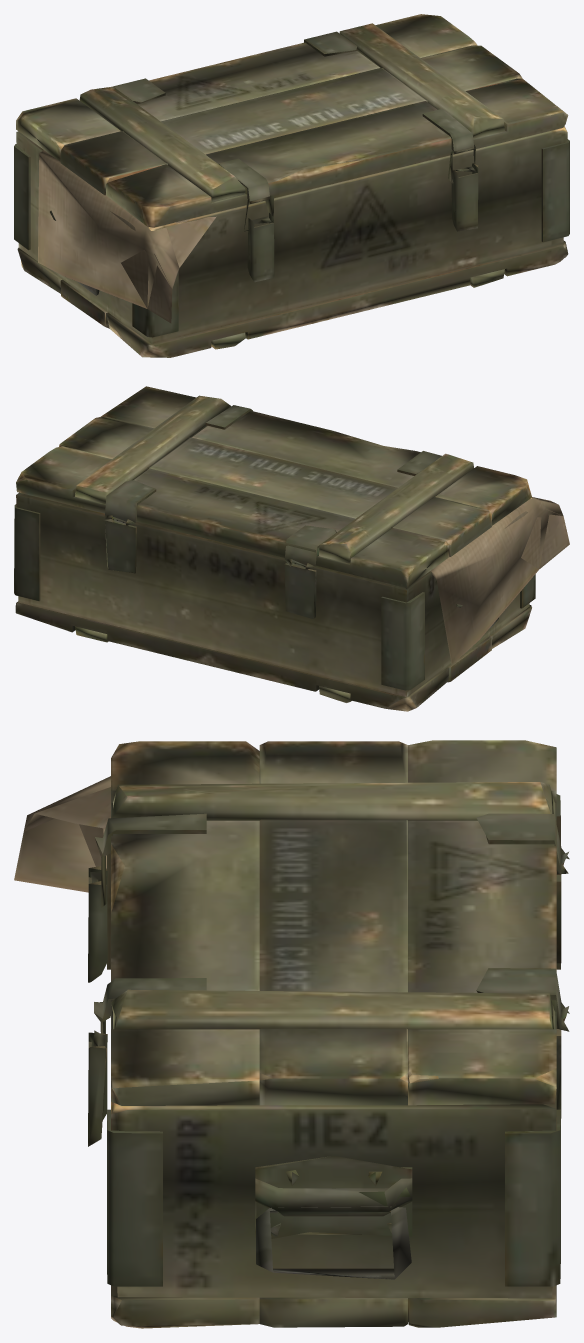
File: crate2.glb
The picture shows the model from 3 angles, top to bottom: view 1: azimuth 30°, elevation 25°; view 2: azimuth 150°, elevation 25°; view 3: azimuth 270°, elevation 25°; orthographic projection. The views are drawn at different scales.
Visible parts, largest first — view 1: old_military_crate_lid_a; view 2: old_military_crate_lid_a; view 3: old_military_crate_lid_a.
Boxes of the visible parts, x1,y1,x2,y2 form: old_military_crate_lid_a: [14, 14, 569, 357]; old_military_crate_lid_a: [14, 386, 569, 711]; old_military_crate_lid_a: [14, 740, 569, 1328].
Bounding box in the file's own units: 0.8123 × 0.2984 × 0.5365.
Materials: 1 (1 with a texture image).
